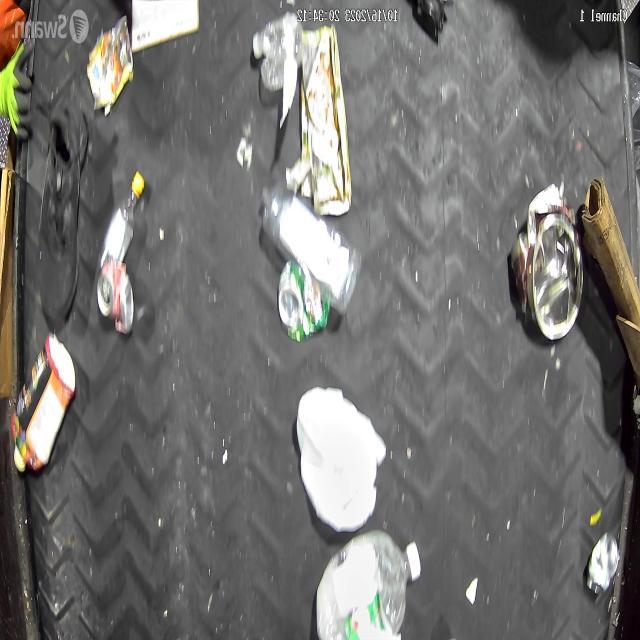can: (518, 174, 585, 342), (277, 262, 328, 344), (96, 258, 134, 347), (582, 516, 623, 598)
milk_jug: (296, 381, 385, 538)
plastic_bottle: (314, 529, 424, 640)
